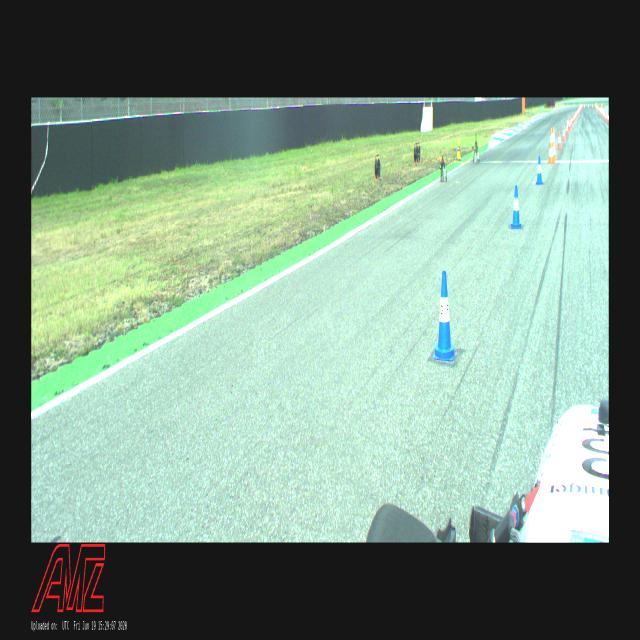blue_cone: (433, 272, 455, 361), (511, 185, 521, 228), (536, 156, 542, 184)
large_orange_cone: (548, 130, 555, 164), (552, 128, 556, 160)
orange_cone: (558, 132, 562, 150), (562, 127, 566, 141), (566, 124, 568, 134), (566, 118, 568, 128), (606, 112, 608, 120), (604, 112, 605, 118), (608, 114, 608, 122)
yellow_cone: (456, 140, 461, 158)
